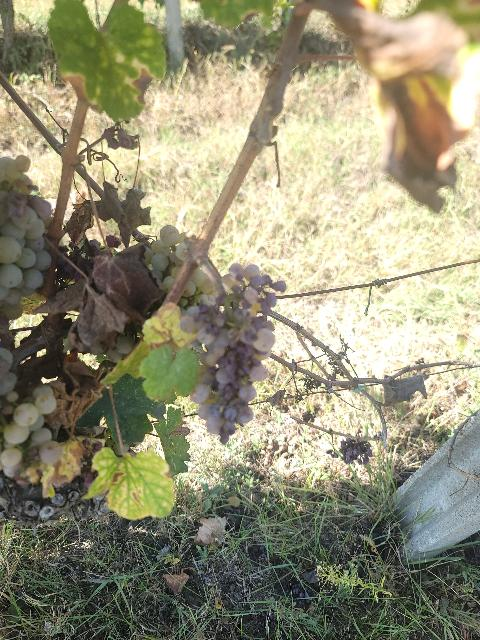grapes: (180, 265, 286, 442), (0, 155, 52, 318)
